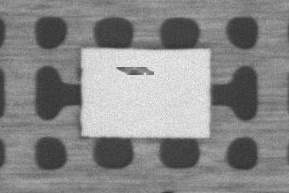DIE_INK: (117, 64, 156, 75)
